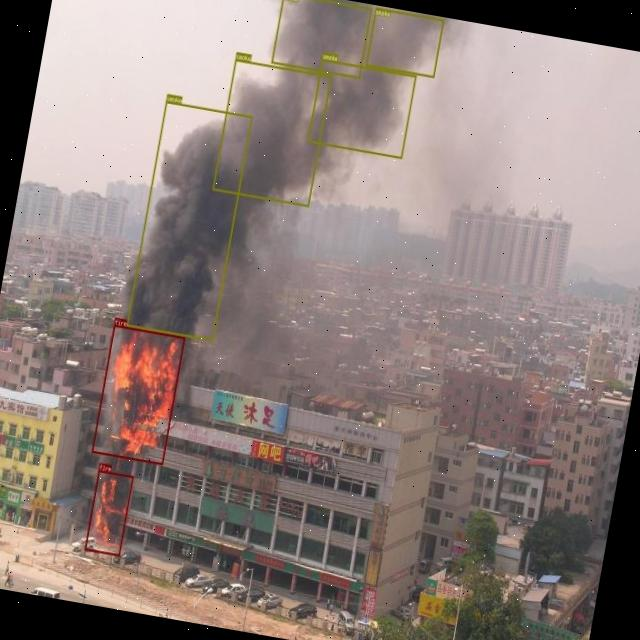fire: (91, 324, 185, 465), (84, 470, 134, 556)
smoke: (126, 101, 252, 341), (212, 58, 332, 206), (307, 59, 416, 158), (271, 0, 371, 78), (365, 7, 444, 77)
